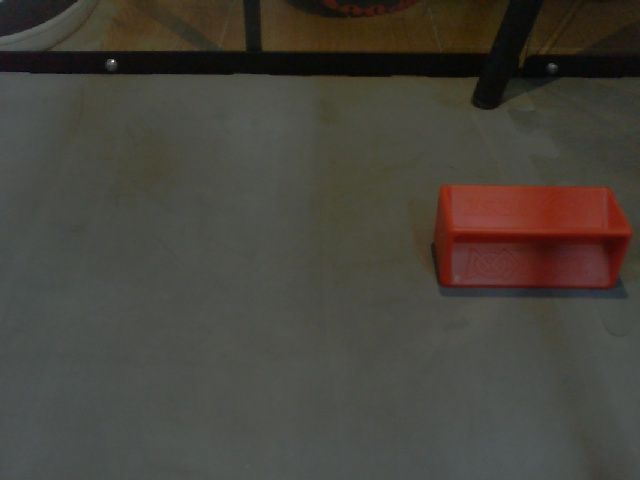RedSample: (432, 181, 631, 293)
